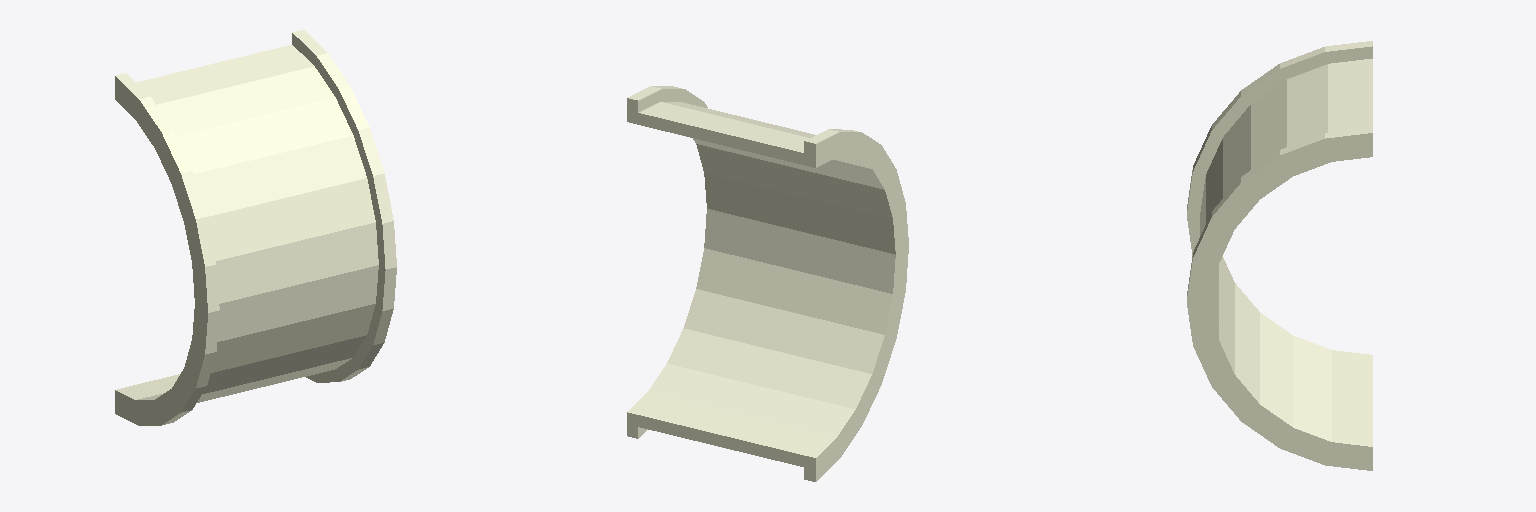
File: section_034.obj
3 renders of one model, left to right at view 1: azimuth 30°, elevation 25°; view 2: azimuth 150°, elevation 25°; view 3: azimuth 270°, elevation 25°, orthographic.
Size of the model in its own units: 16.35 by 28 by 14.